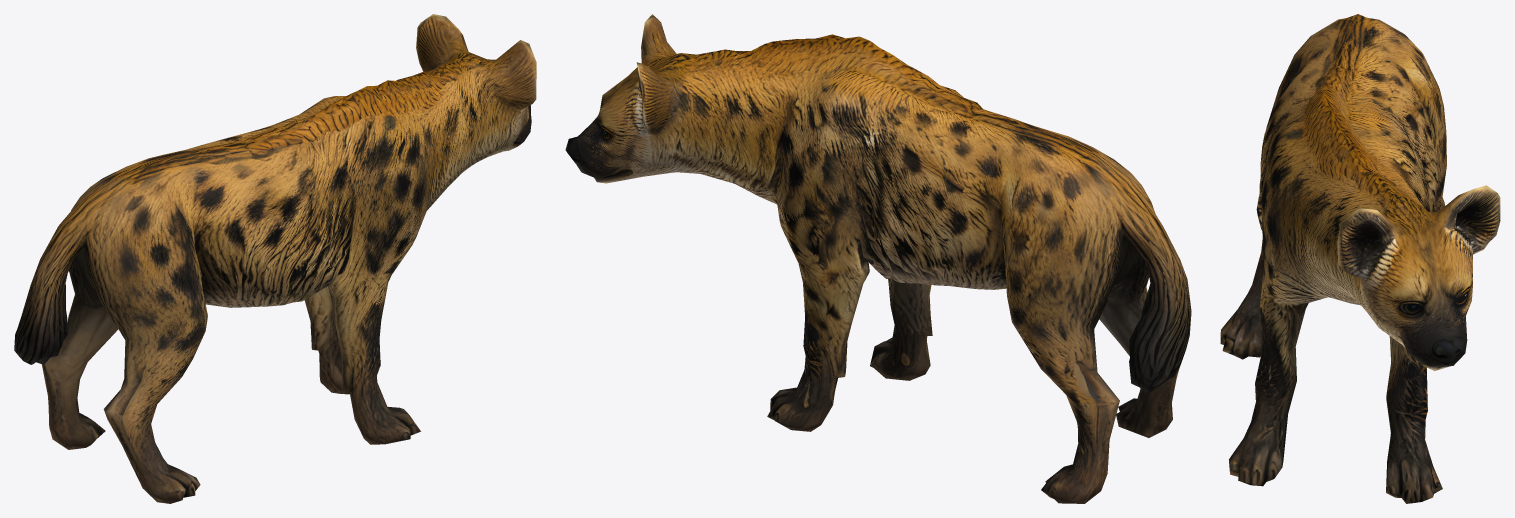
The model's file is hyena.glb.
3 renders of one model, left to right at view 1: azimuth 30°, elevation 25°; view 2: azimuth 150°, elevation 25°; view 3: azimuth 270°, elevation 25°, orthographic. The views are drawn at different scales.
Parts seen in each view (by area): view 1: tripo_node_c4a3ee53-e4a1-4efe-90b0-e8d724c85210; view 2: tripo_node_c4a3ee53-e4a1-4efe-90b0-e8d724c85210; view 3: tripo_node_c4a3ee53-e4a1-4efe-90b0-e8d724c85210.
Boxes of the visible parts, x1,y1,x2,y2 form: tripo_node_c4a3ee53-e4a1-4efe-90b0-e8d724c85210: (14, 14, 536, 503); tripo_node_c4a3ee53-e4a1-4efe-90b0-e8d724c85210: (565, 14, 1191, 503); tripo_node_c4a3ee53-e4a1-4efe-90b0-e8d724c85210: (1220, 14, 1500, 503).
Bounding box in the file's own units: 0.9998 × 0.5926 × 0.3841.
1 material, 1 textured.
